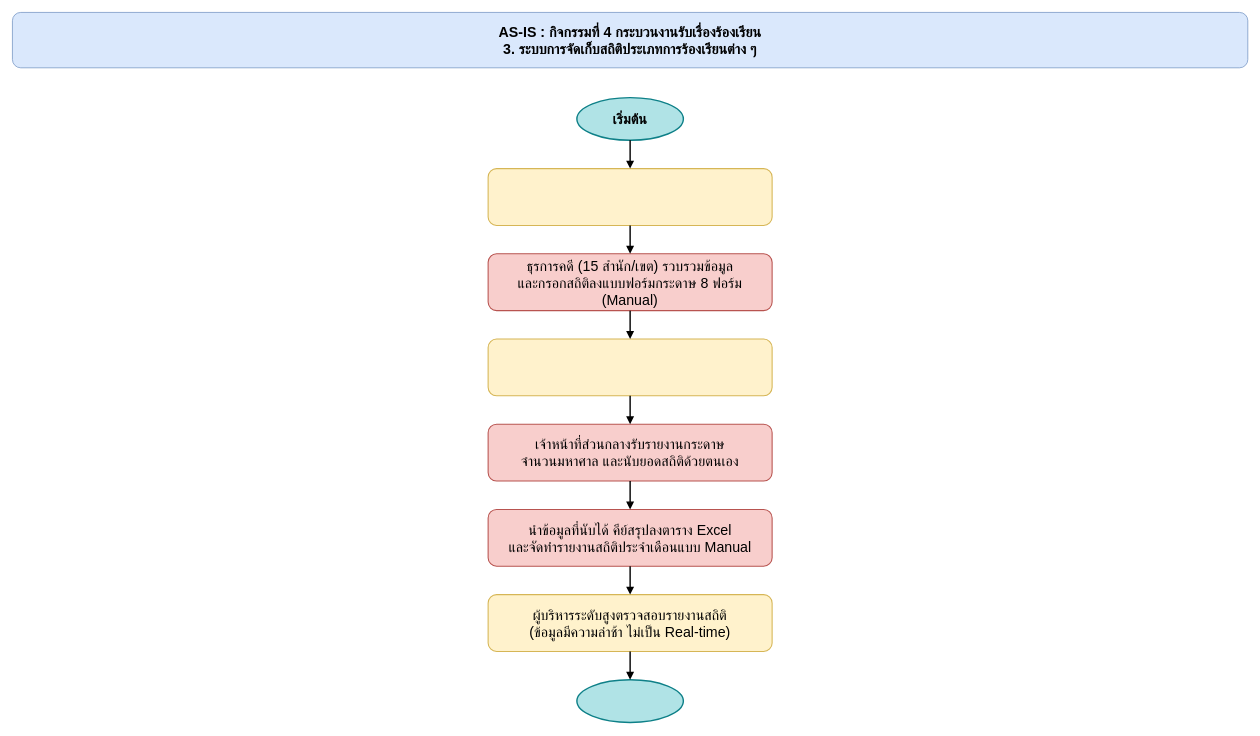
This 1260x736 diagram has some shape labels left out. The shapes that lost their labels are listed below. From the top down, each one's box as (x1, y1, x2, y2) in pixels, then its label:
(487, 168, 772, 226): นักสืบสวนสอบสวนปฏิบัติงาน และอัปเดตความคืบหน้าของคดีในแต่ละพื้นที่
(487, 338, 772, 396): จัดส่งรายงานรูปแบบกระดาษ เข้ามาที่ศูนย์ส่วนกลางในทุกๆ เดือน
(576, 679, 684, 723): สิ้นสุด
